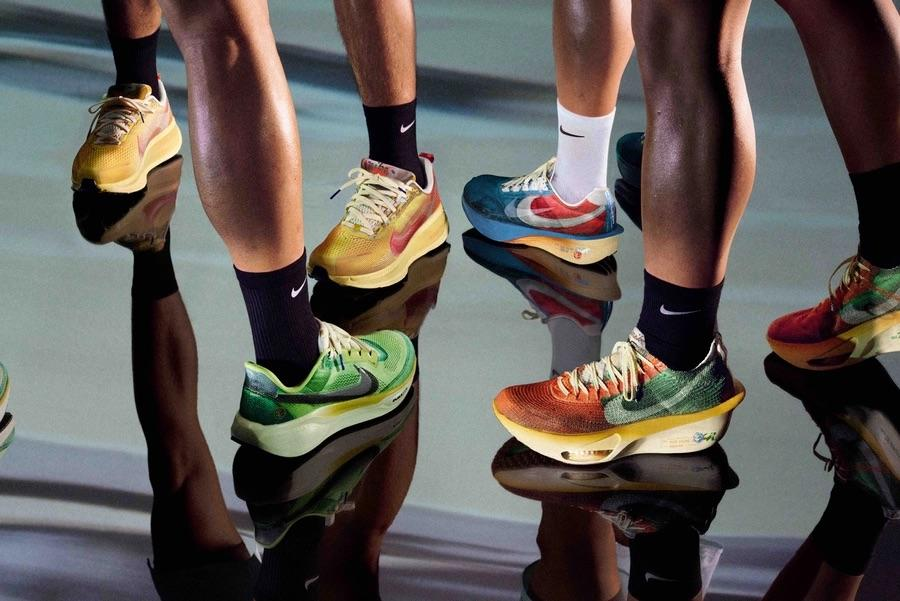nike logo: (597, 365, 717, 434), (272, 358, 390, 415), (384, 177, 442, 266), (498, 194, 563, 229)
sock logo: (235, 249, 318, 382), (638, 274, 725, 357)
